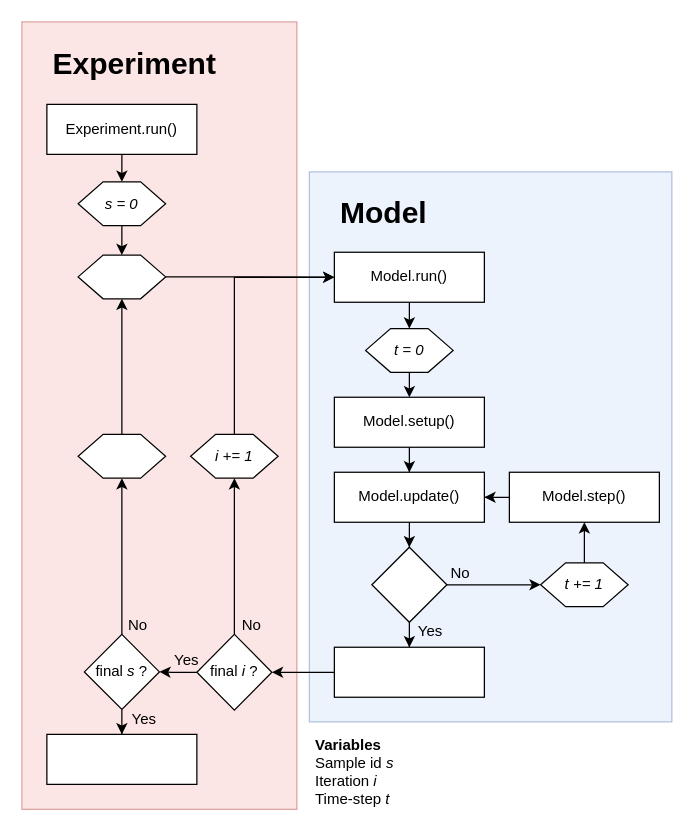
This 694x831 diagram has some shape labels left out. The centre of each missing label's shape, as x and y in pixels:
"Experiment.end()" goes at (x=121, y=758).
"final t ?" goes at (x=409, y=584).
"i = 0" goes at (x=121, y=276).
"Model.end()" goes at (x=408, y=671).
"s += 1" goes at (x=121, y=455).
